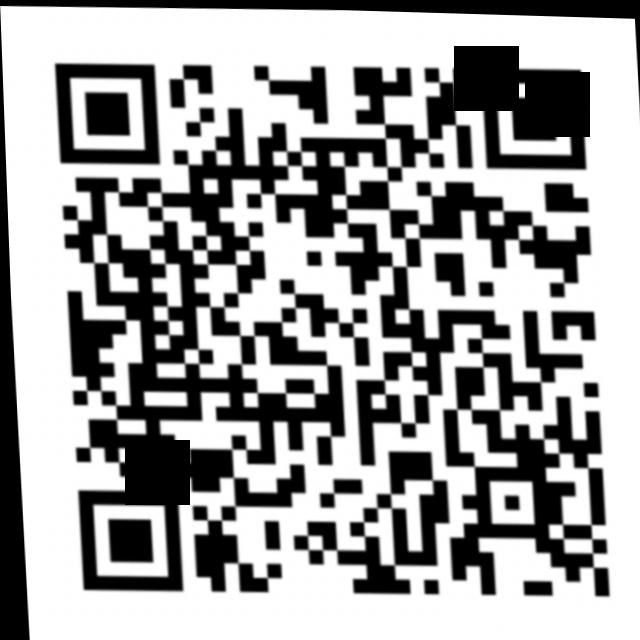QR_CODE: (40, 38, 620, 616)
